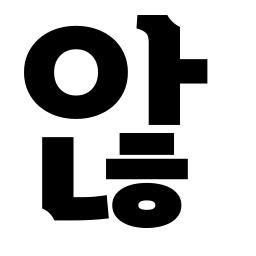Gaji: (138, 49, 198, 99)
